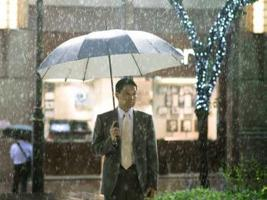person: (92, 78, 159, 200)
